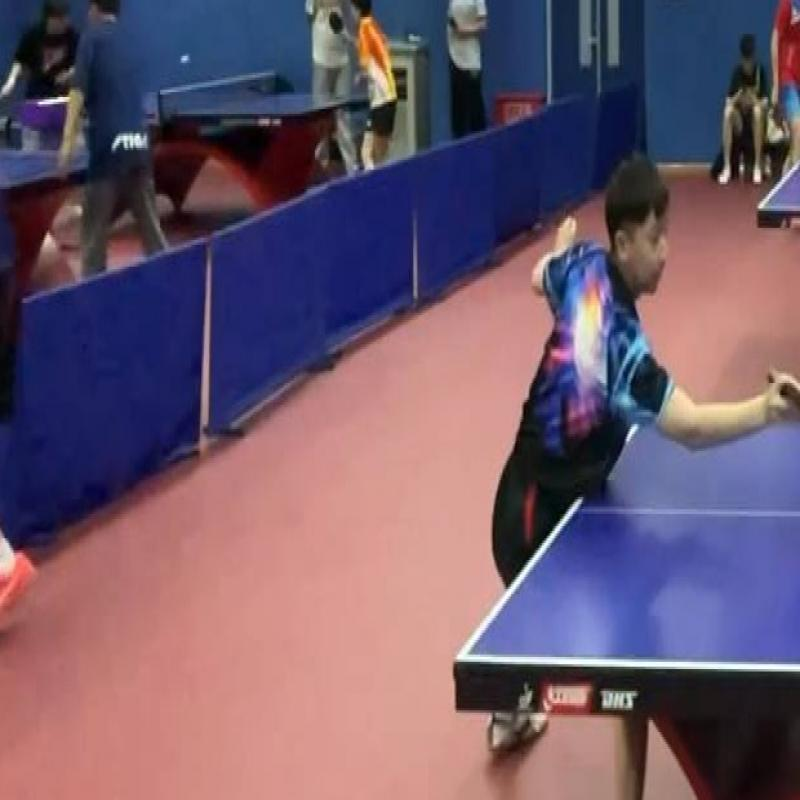bats: (751, 344, 800, 429)
